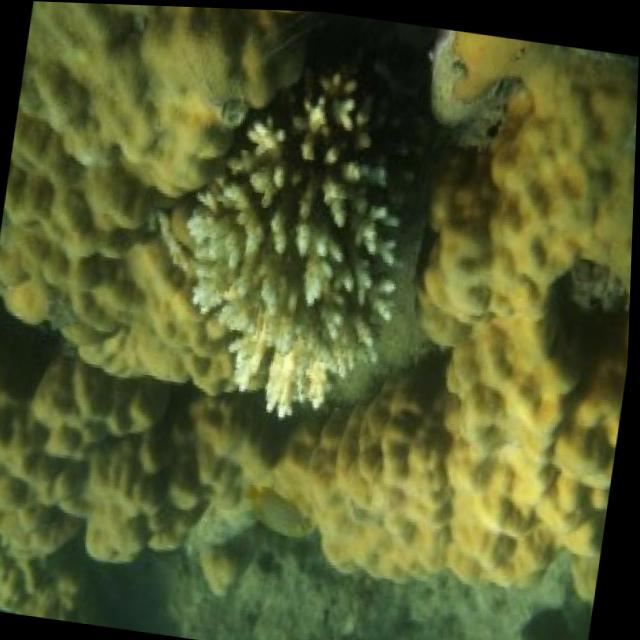Bleached Coral: (163, 29, 434, 437)
